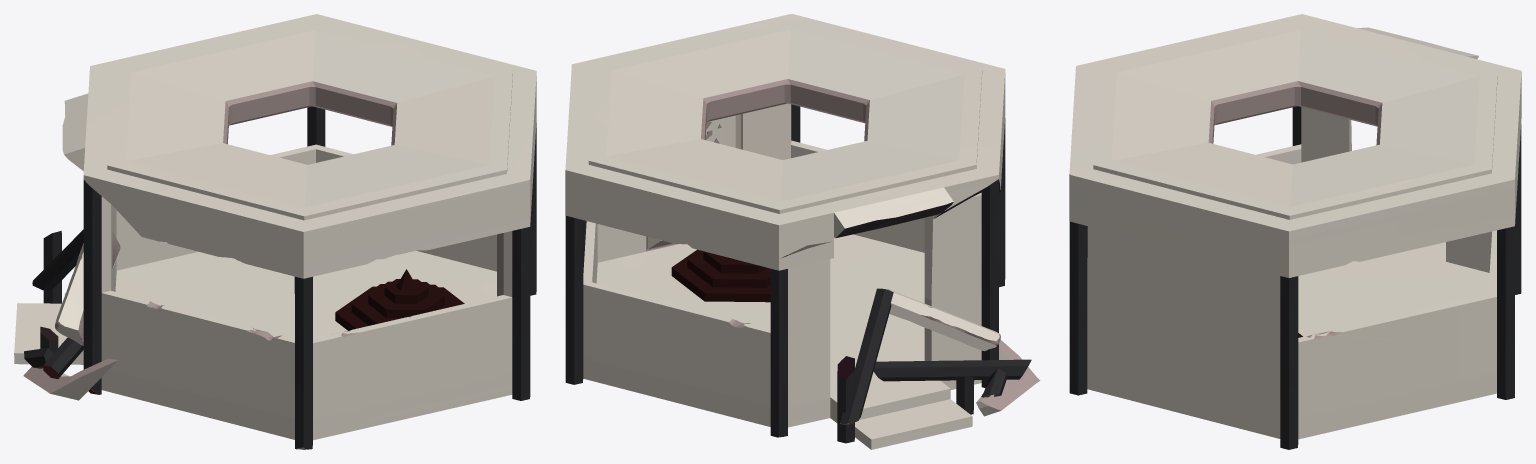
File: medium_puzzle2.0.gltf
The picture shows the model from 3 angles, left to right: view 1: azimuth 30°, elevation 25°; view 2: azimuth 150°, elevation 25°; view 3: azimuth 270°, elevation 25°; orthographic projection. The views are drawn at different scales.
Parts seen in each view (by area): view 1: medium puzzle room.002; view 2: medium puzzle room.002; view 3: medium puzzle room.002.
Part boxes in pixels (left/top/right/bottom): medium puzzle room.002: left=14, top=14, right=536, bottom=449; medium puzzle room.002: left=565, top=14, right=1040, bottom=449; medium puzzle room.002: left=1069, top=14, right=1521, bottom=449.
Bounding box in the file's own units: 11.78 × 5.28 × 9.54.
1 material, 1 textured.
